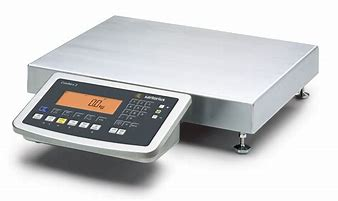Industrial Scale: (11, 14, 321, 164)
